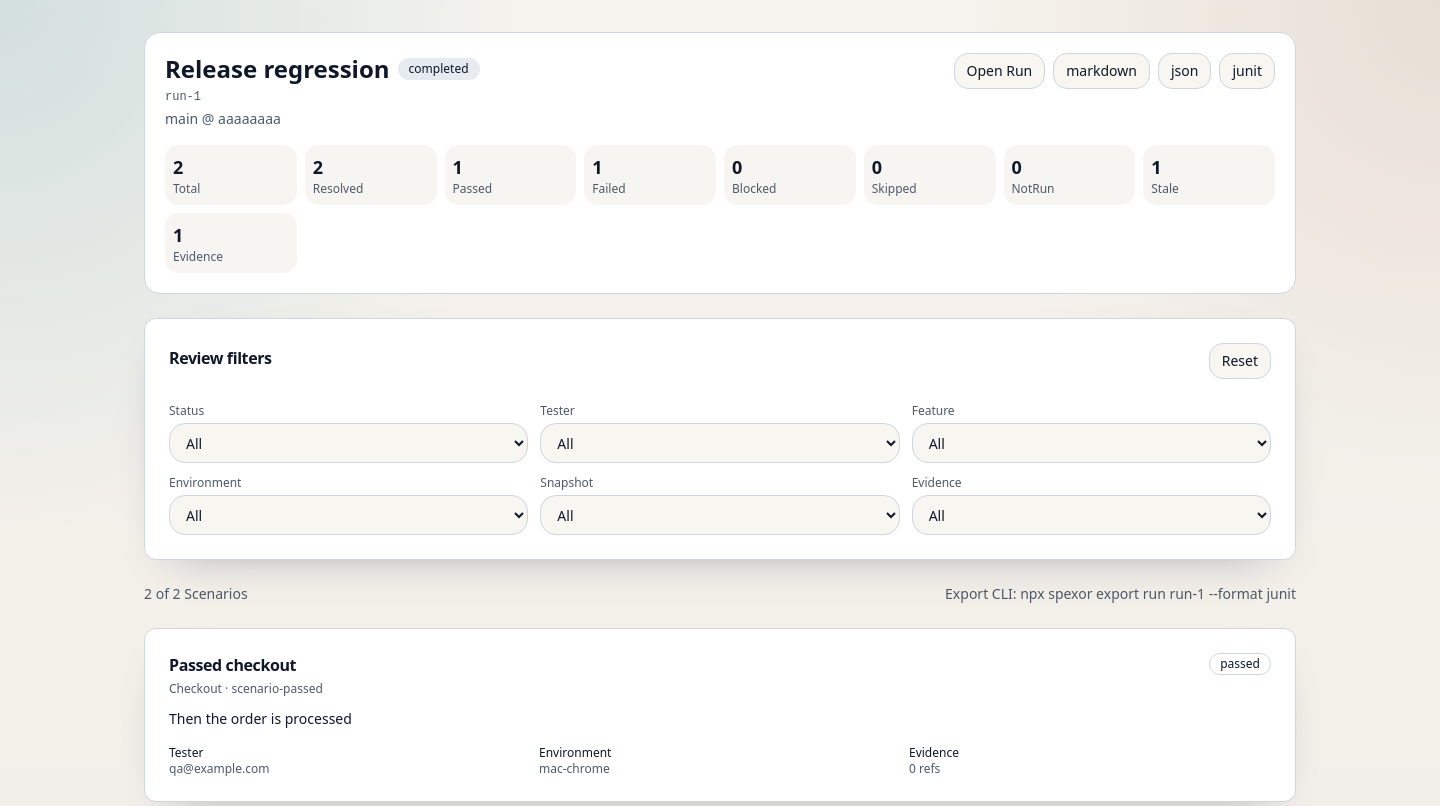
Test: RunReviewPage › filters immutable results and exposes all export formats
Expected: the heading "Release regression" is shown, left=165, top=53, right=390, bottom=85
Expected: the link "junit" is shown, left=1219, top=53, right=1275, bottom=89
Select "with" in the dropdown named "Review filter: Evidence". click: [1091, 515]
box: left=912, top=495, right=1271, bottom=535
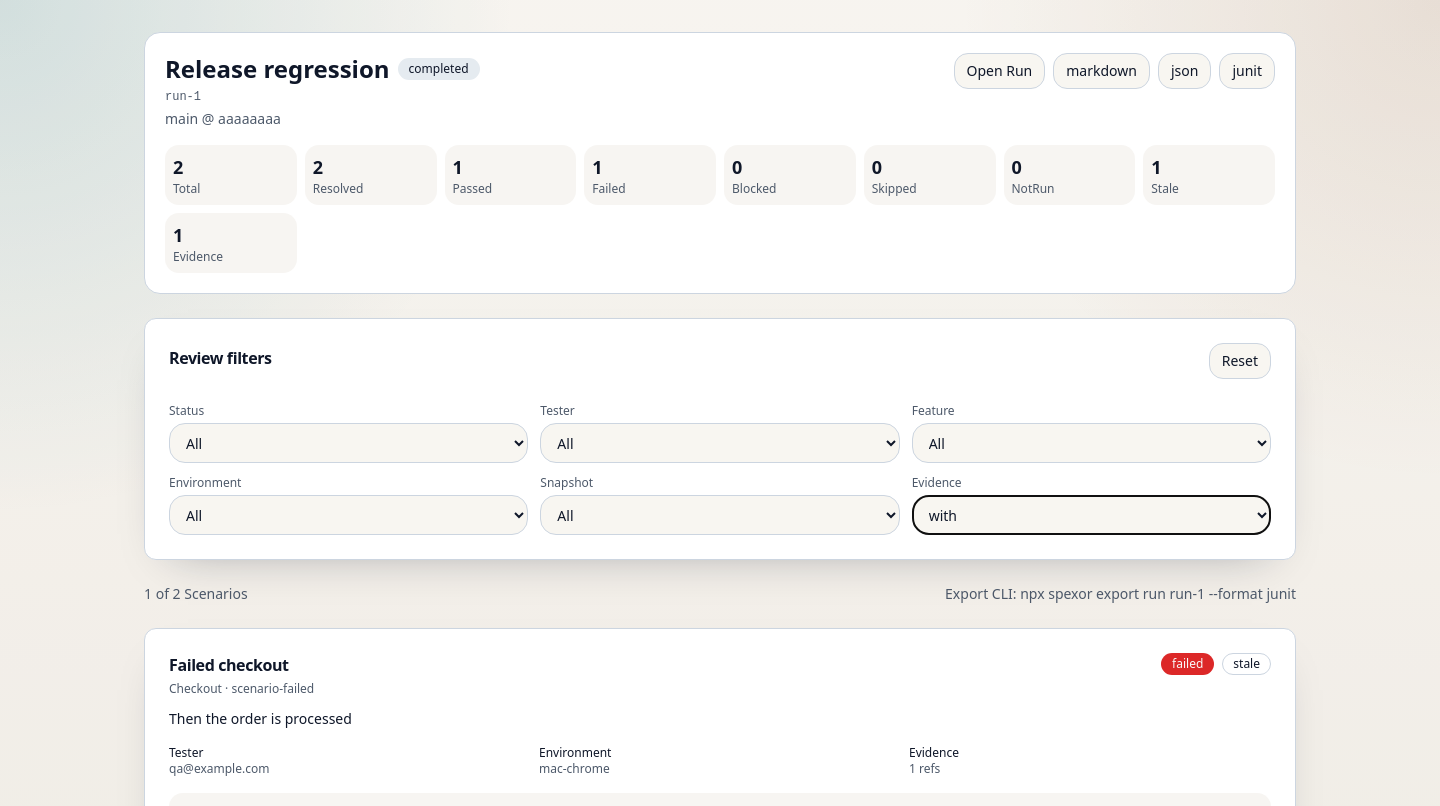
Expected: the heading "Failed checkout" is shown, left=169, top=654, right=289, bottom=676
Now the heading "Passed checkout" is gone
Now the text "1 of 2 Scenarios" is shown, box left=144, top=584, right=248, bottom=604
